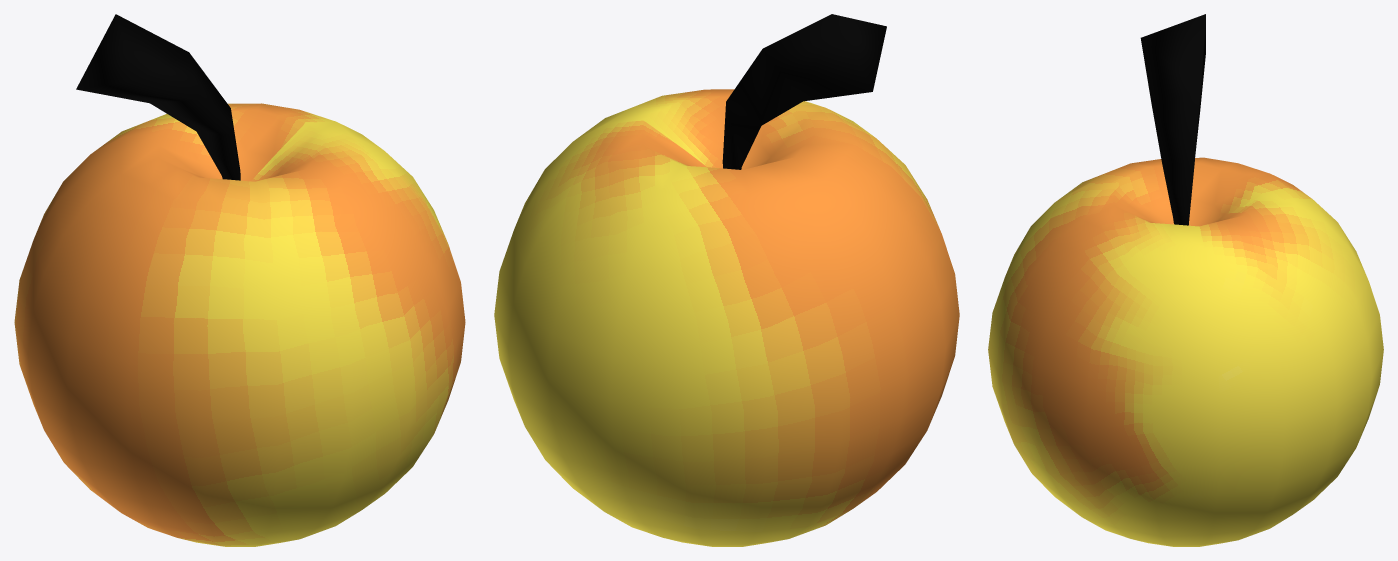
The model's file is aple_02.fbx.
The picture shows the model from 3 angles, left to right: view 1: azimuth 30°, elevation 25°; view 2: azimuth 150°, elevation 25°; view 3: azimuth 270°, elevation 25°; orthographic projection. The views are drawn at different scales.
Parts seen in each view (by area): view 1: Sphere; view 2: Sphere; view 3: Sphere.
Part boxes in pixels (bbox=[...]): Sphere: bbox=[14, 14, 465, 546]; Sphere: bbox=[494, 14, 959, 546]; Sphere: bbox=[988, 14, 1383, 546].
Bounding box in the file's own units: 197 × 260 × 200.
